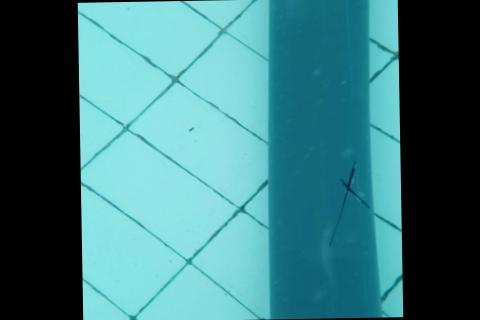keretakan: (323, 161, 372, 248)
